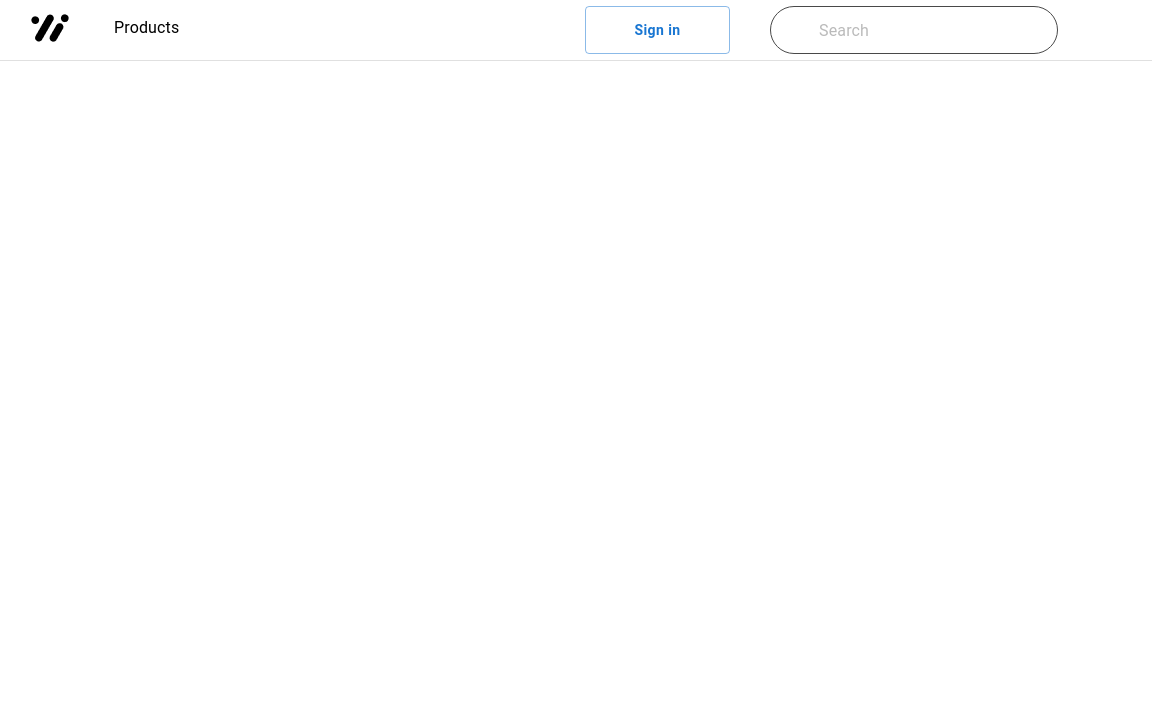
Header Component › SearchModal opens after click on search
Click the element with test id "searchbar__input" at (930, 31), box [819, 20, 1041, 42]
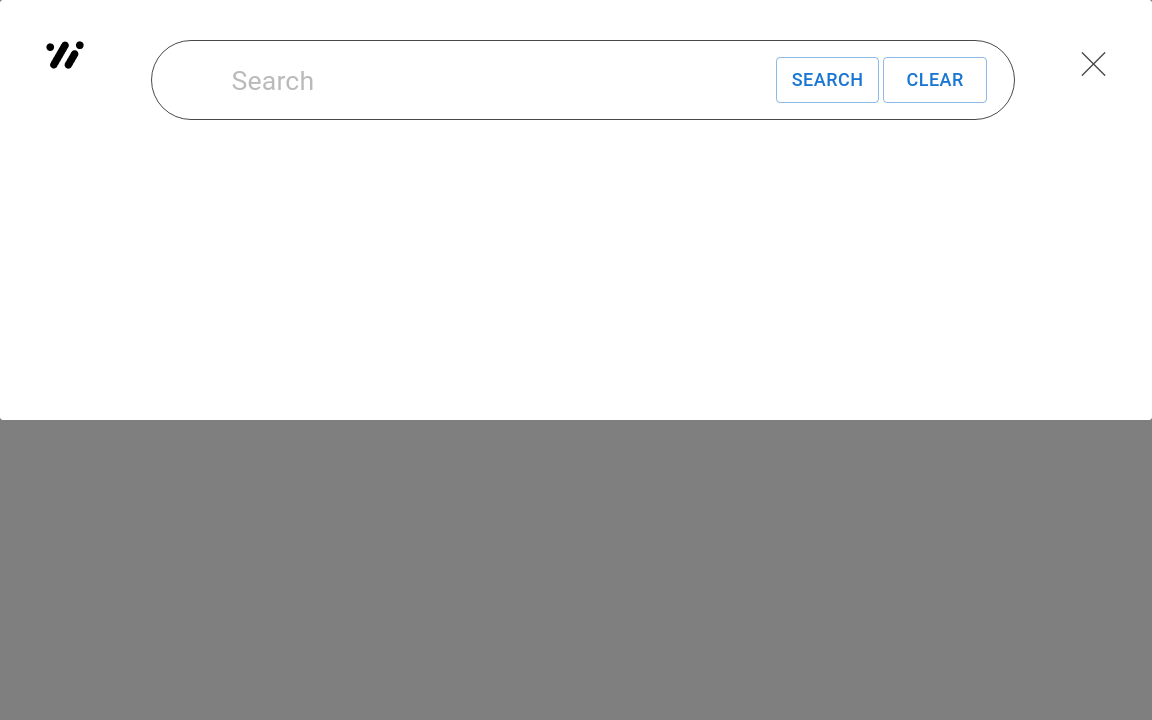
Result: the element with test id "searchModal__content" is shown at [0, 0, 1151, 420]
